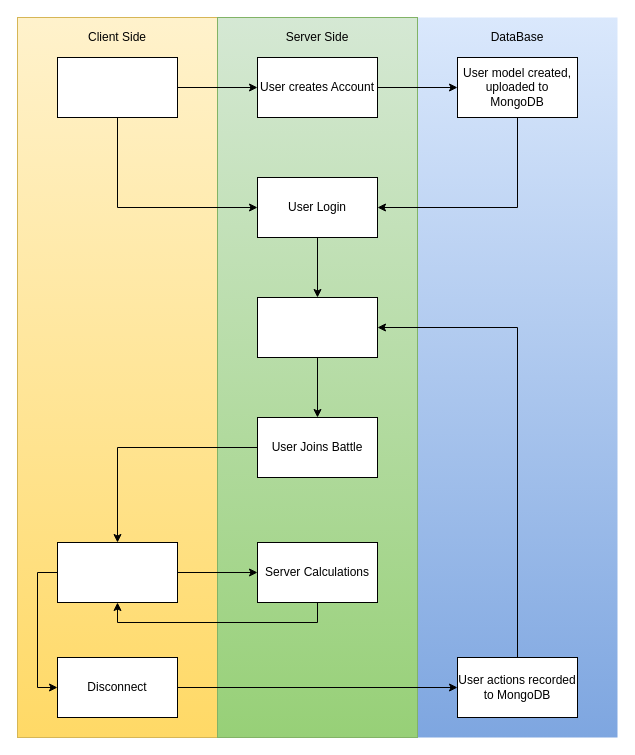
Image size: 635x755. Some labels were removed from this diagram. The shapes that lost their labels are listed below. From the top down, each one's box as (x1, y1, x2, y2) in pixels, then its label:
(56, 56, 178, 118): Start
(256, 296, 378, 358): User setup/ Stat Displays
(56, 542, 178, 602): User inputs
